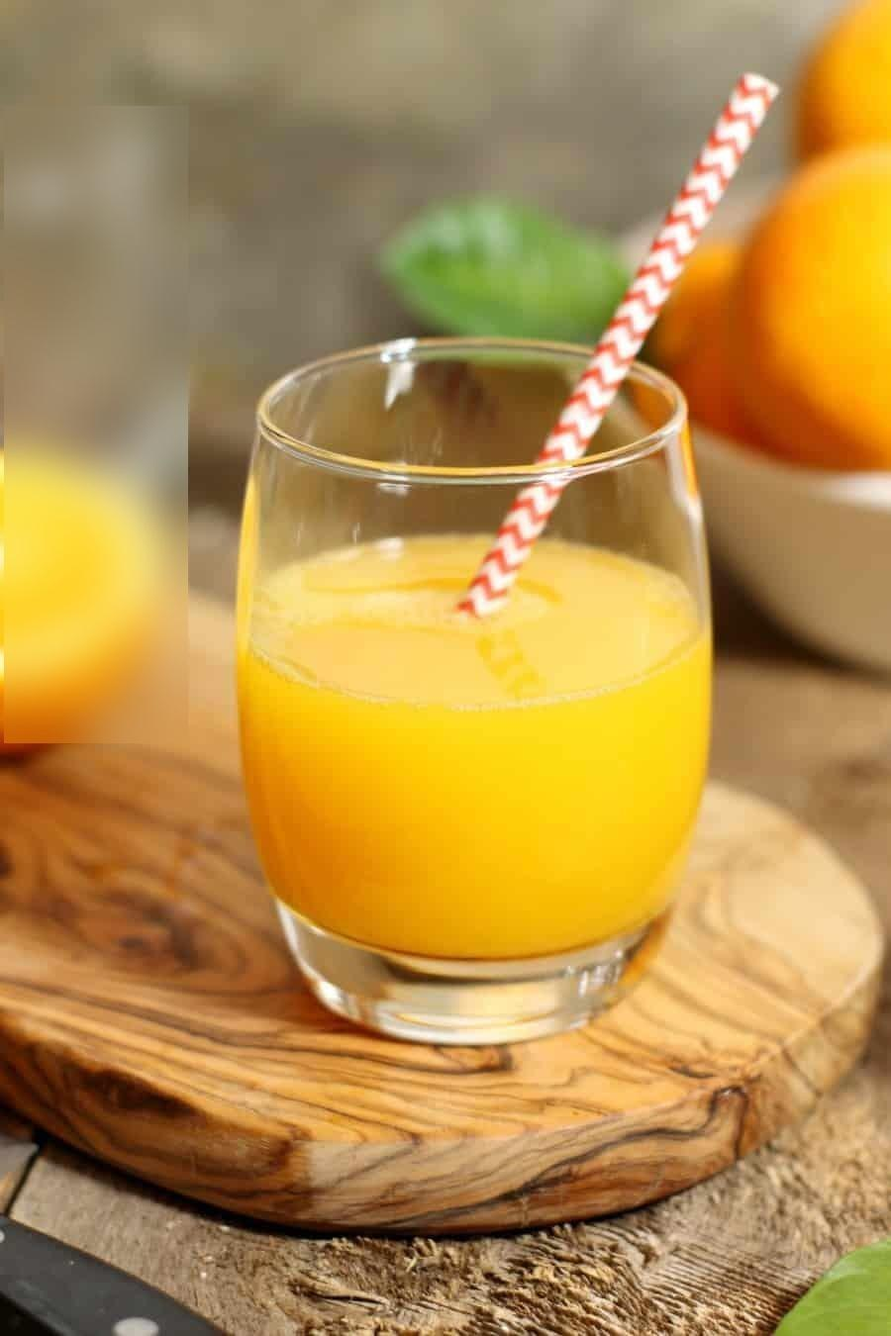glass-normal: (226, 334, 720, 1048)
